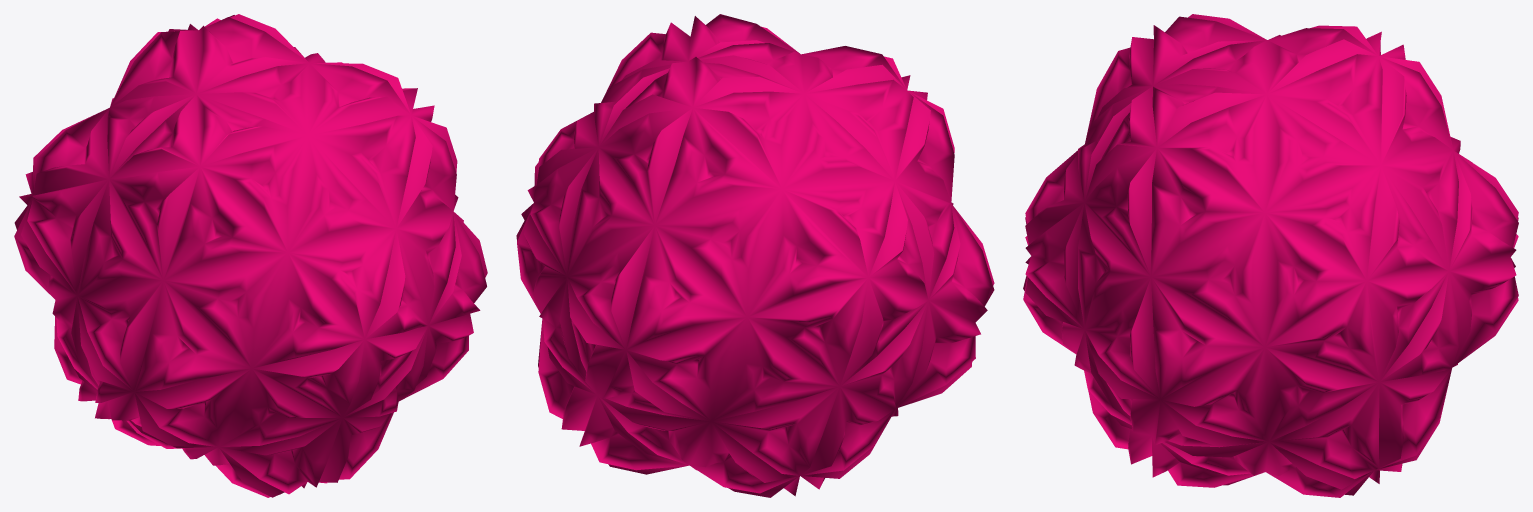
File: Flower Ball FBX.fbx
3 renders of one model, left to right at view 1: azimuth 30°, elevation 25°; view 2: azimuth 150°, elevation 25°; view 3: azimuth 270°, elevation 25°, orthographic. The views are drawn at different scales.
Visible parts, largest first — view 1: smooth1_0; view 2: smooth1_0; view 3: smooth1_0.
Part boxes in pixels (x1,y1,x2,y2): smooth1_0: (14,14,487,497); smooth1_0: (516,14,994,497); smooth1_0: (1023,14,1518,497).
Size of the model in its own units: 2.69 by 2.82 by 2.86.
